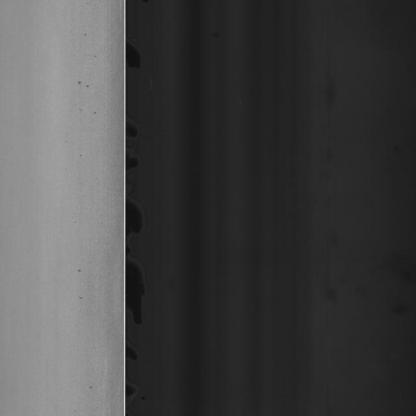inclusion: (76, 77, 90, 93), (76, 262, 84, 278)
